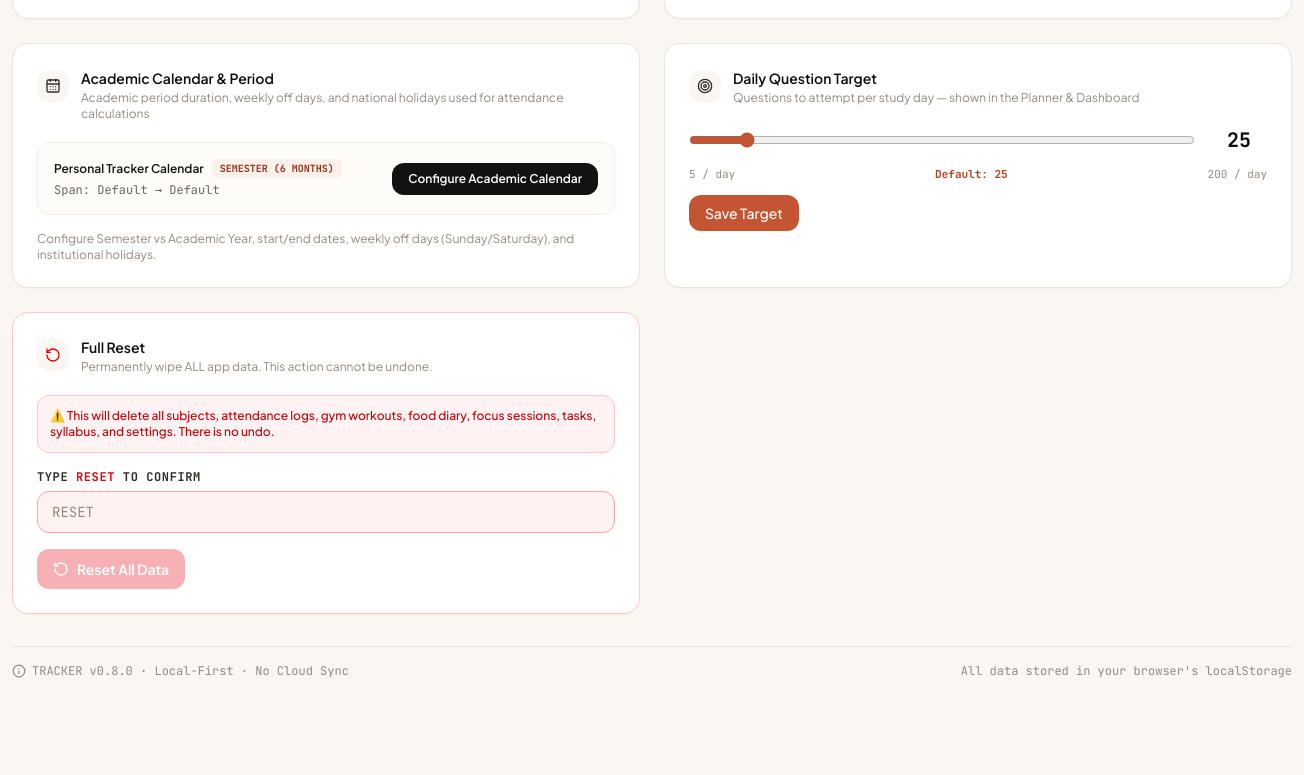
Test case: Milestone 8: Focus Radio, Calendar Export & Remaining Settings › Remaining Settings & Full Reset Flow › enforces two-step reset requiring exact string RESET
(page scrolled)
Expected: the button "Reset All Data" is disabled, x1=37 y1=549 x2=185 y2=589
# Typing wrong text leaves button disabled
In the field with placeholder "RESET": (326, 512) x1=37 y1=491 x2=615 y2=533, type "reset"
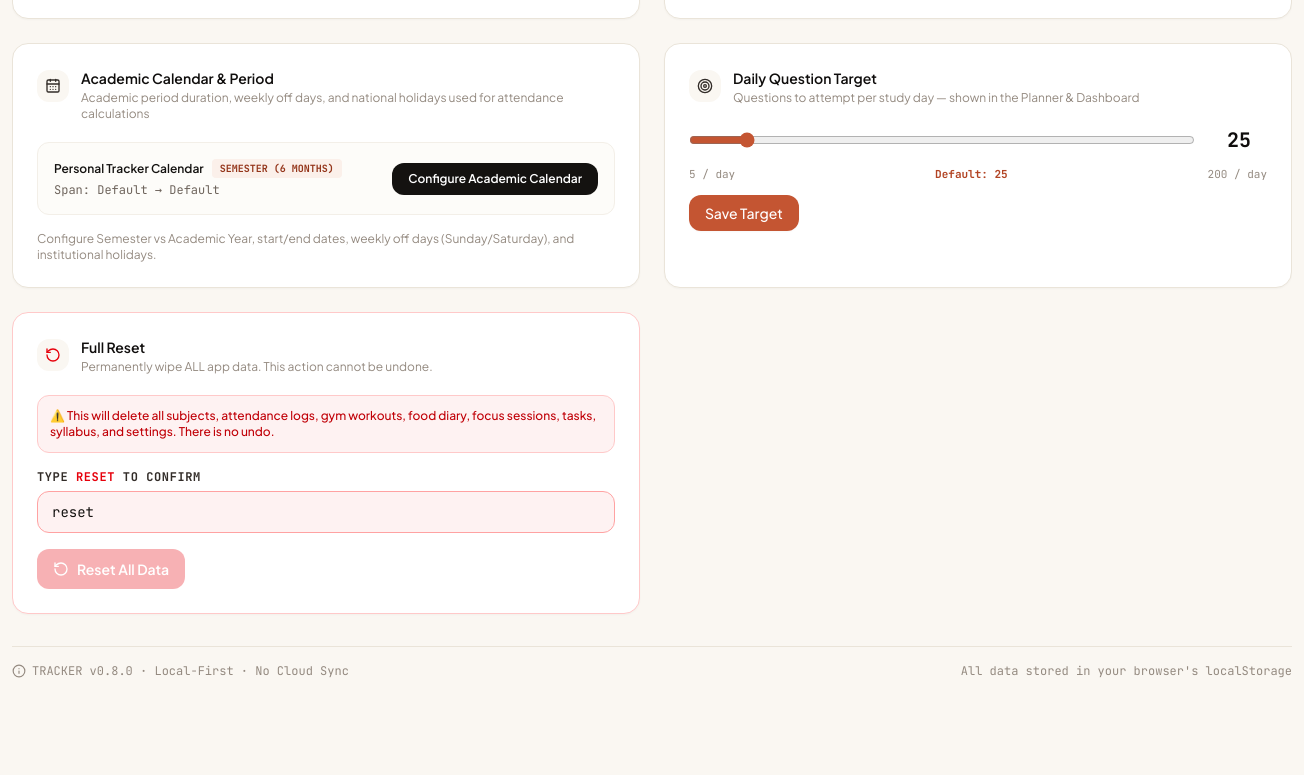
Expected: the button "Reset All Data" is disabled, x1=37 y1=549 x2=185 y2=589
Replace the text in the field with placeholder "RESET" with "CONFIRM": (326, 512) x1=37 y1=491 x2=615 y2=533
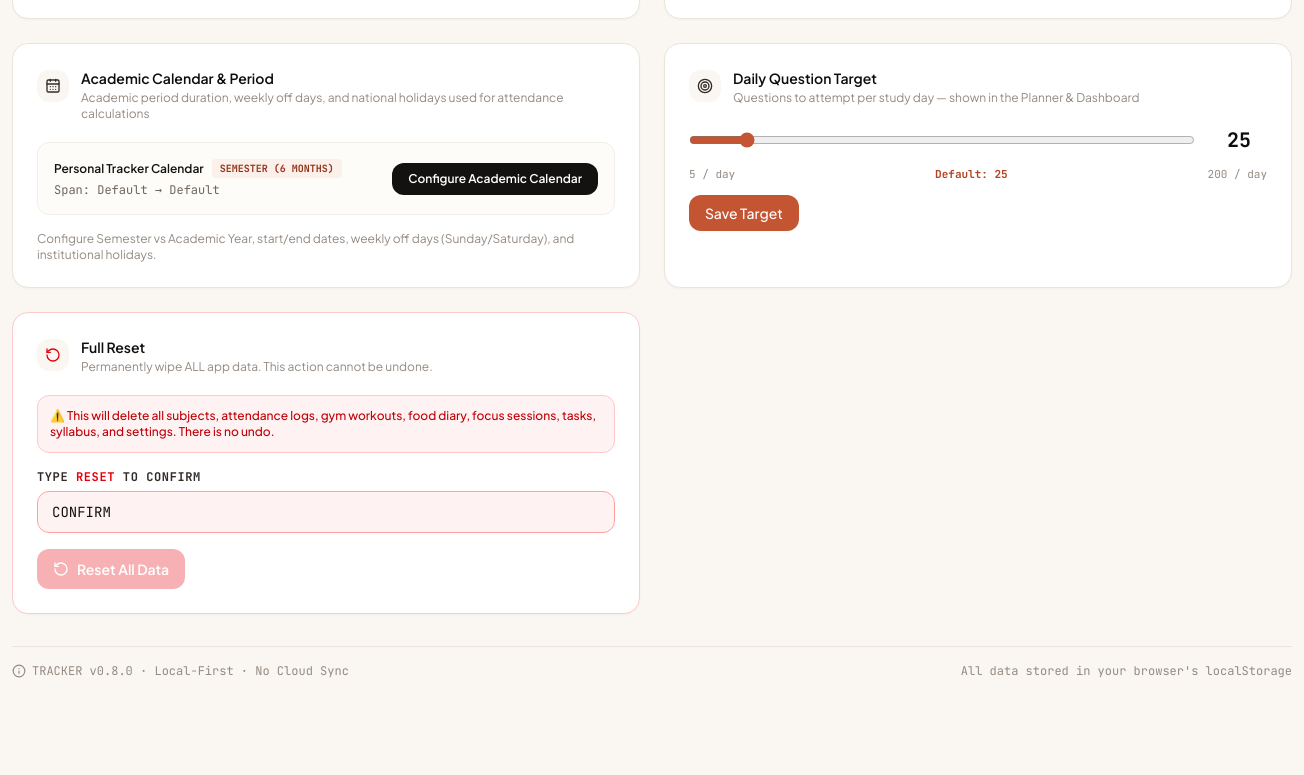
Expected: the button "Reset All Data" is disabled, x1=37 y1=549 x2=185 y2=589
# Typing exact 'RESET' enables button
Replace the text in the field with placeholder "RESET" with "RESET": (326, 512) x1=37 y1=491 x2=615 y2=533
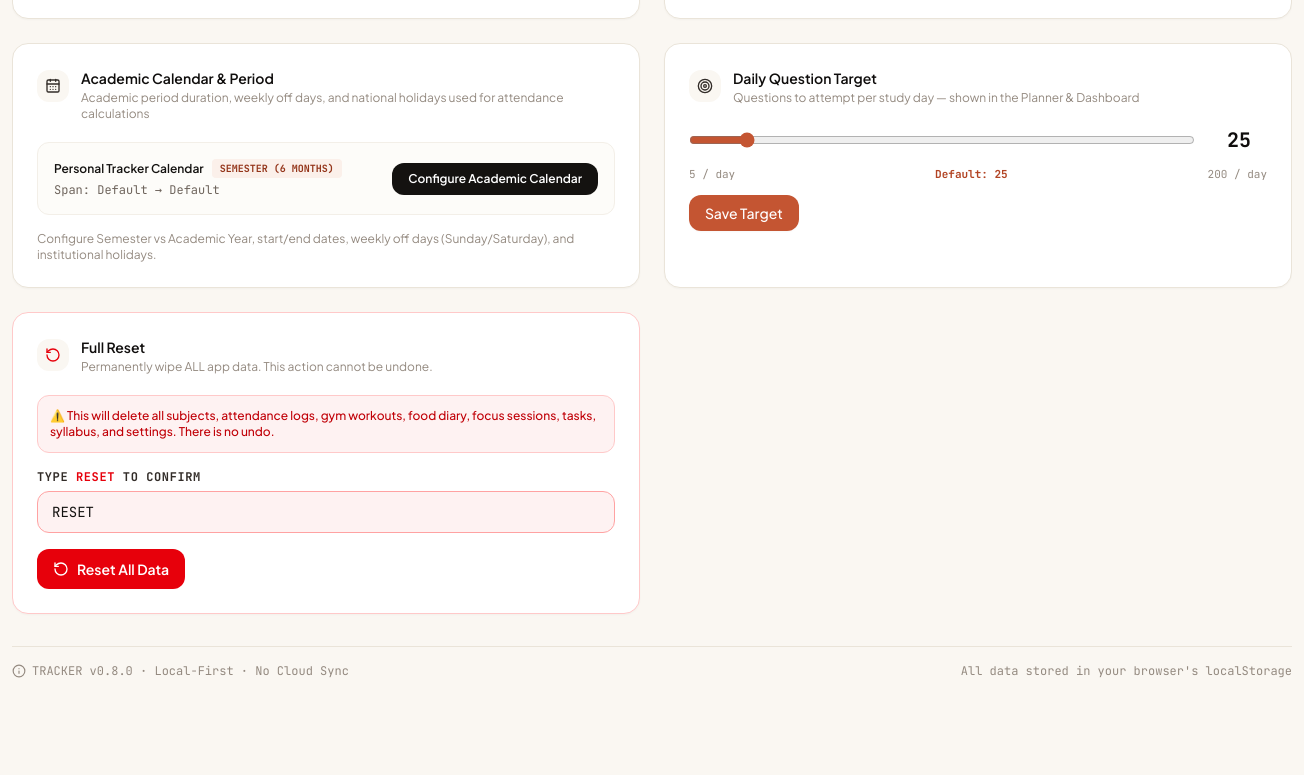
Now the button "Reset All Data" is enabled
# Click reset
Click the button "Reset All Data": (111, 569) x1=37 y1=549 x2=185 y2=589
(page scrolled)
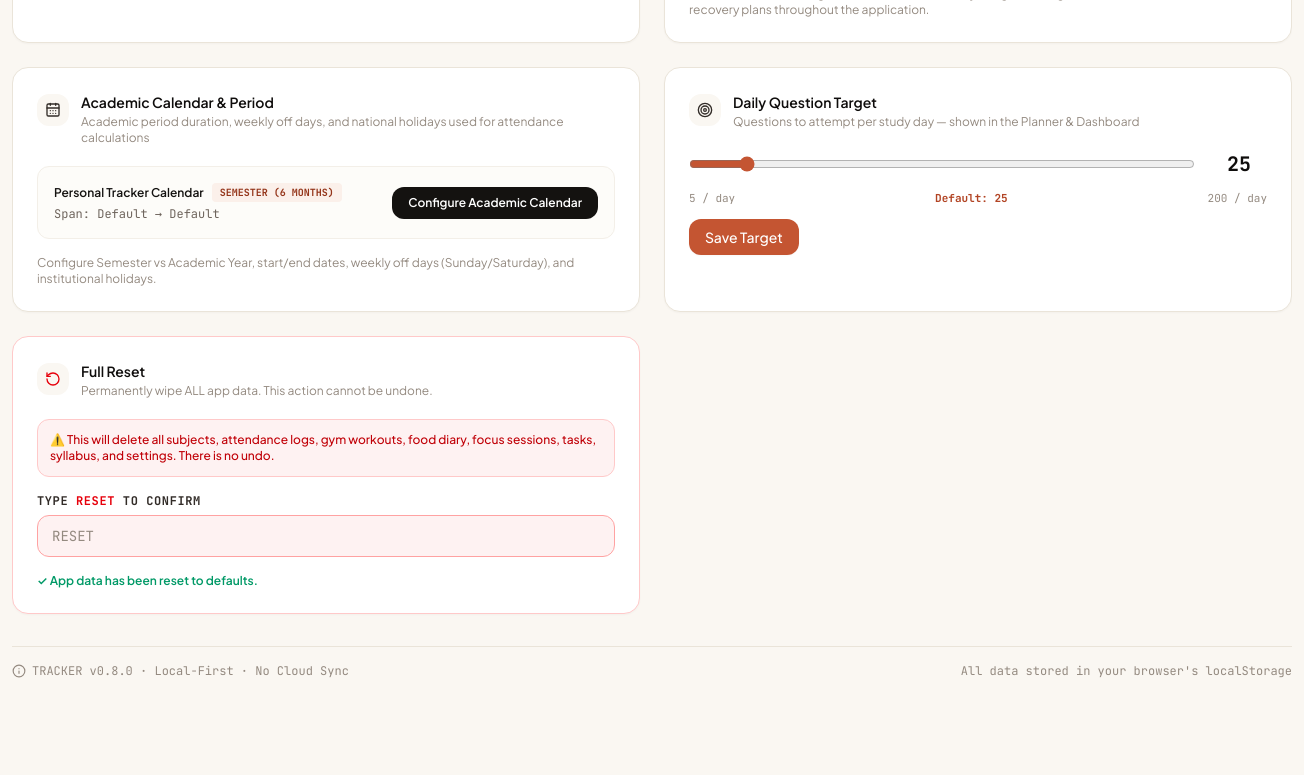
Now the text "✓ App data has been reset to defaults." is shown, box x1=37 y1=573 x2=258 y2=588
